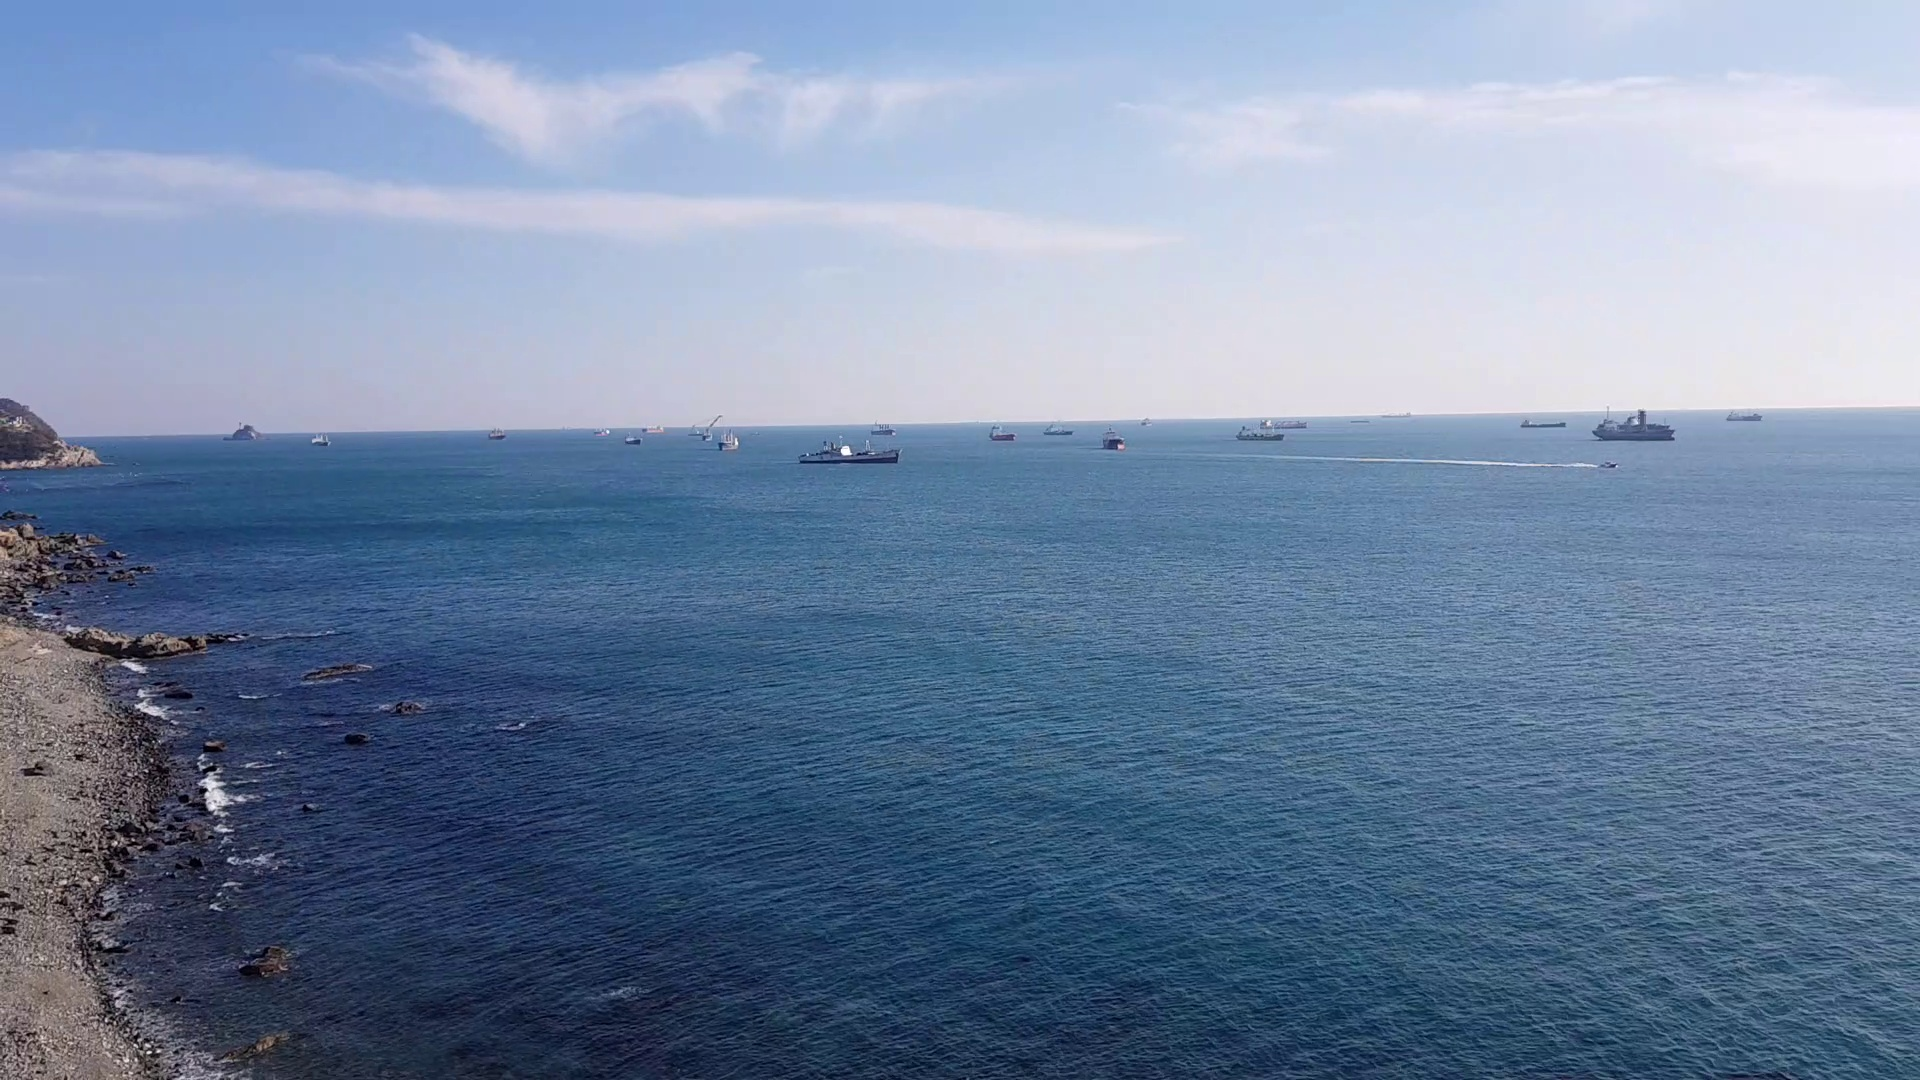Bulk_Carrier: (796, 439, 902, 462), (1578, 417, 1679, 436), (1228, 423, 1294, 440)
